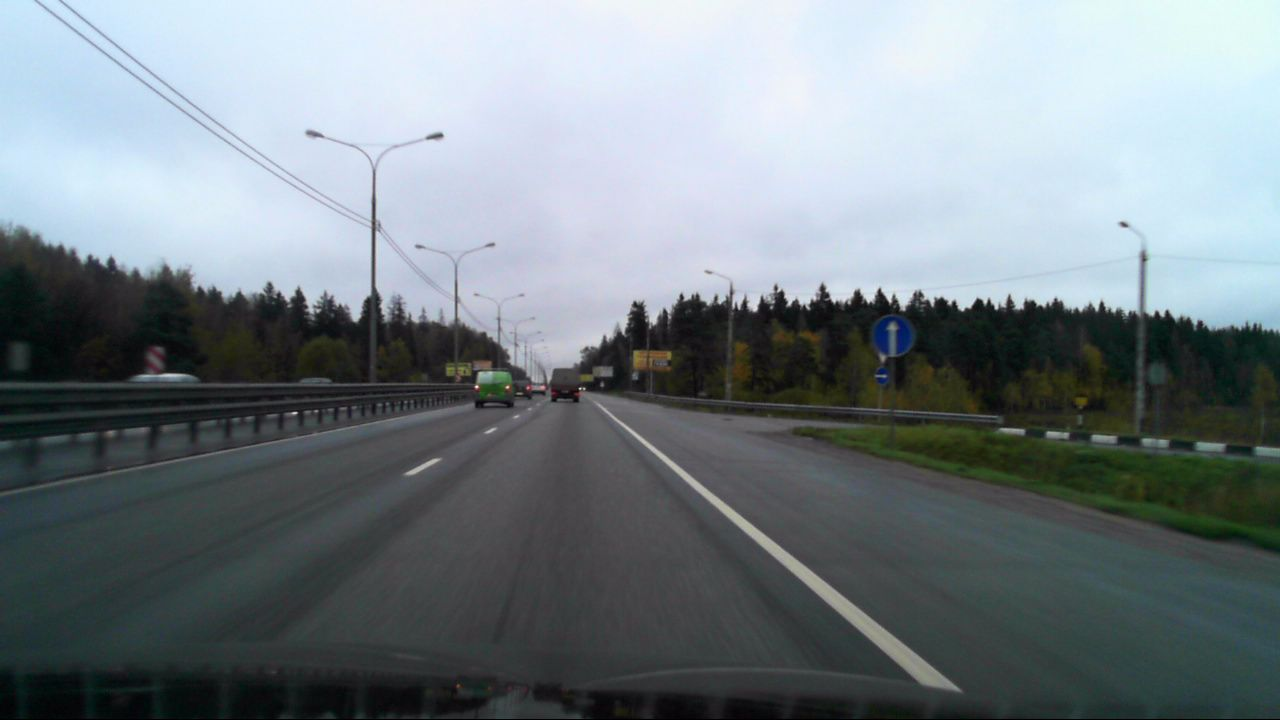Turn Right: (874, 367, 892, 386)
